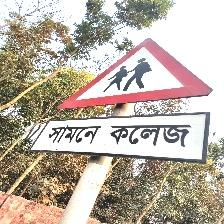College-in-front: (32, 38, 223, 173)
